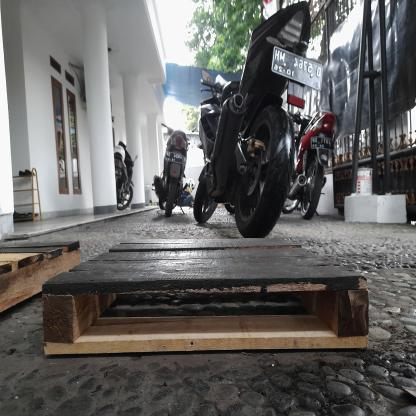Wooden-Pallet: (36, 234, 374, 359)
